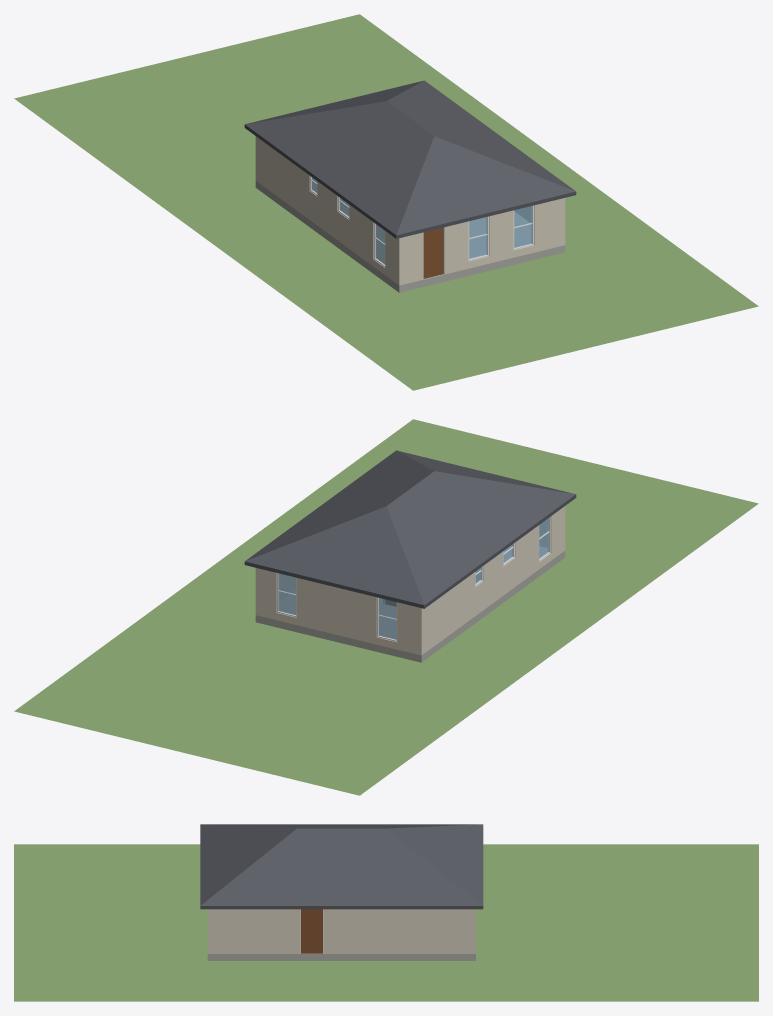
3 renders of one model, top to bottom at view 1: azimuth 30°, elevation 25°; view 2: azimuth 150°, elevation 25°; view 3: azimuth 270°, elevation 25°, orthographic. The views are drawn at different scales.
Visible parts, largest first — view 1: SITE, ROOF, ext-left, ext-front, SLAB-L1, D01, N02, N01; view 2: SITE, ROOF, ext-back, ext-left, SLAB-L1, N07, N06; view 3: SITE, ROOF, ext-right, SLAB-L1, D02.
Boxes of the visible parts, x1=… form: SITE: x1=14, y1=14, x2=758, y2=390; ROOF: x1=244, y1=80, x2=576, y2=238; ext-left: x1=257, y1=138, x2=397, y2=283; ext-front: x1=397, y1=198, x2=565, y2=285; SLAB-L1: x1=255, y1=181, x2=565, y2=292; D01: x1=423, y1=227, x2=443, y2=278; N02: x1=514, y1=206, x2=531, y2=247; N01: x1=469, y1=217, x2=486, y2=258; SITE: x1=14, y1=419, x2=758, y2=795; ROOF: x1=244, y1=450, x2=576, y2=608; ext-back: x1=255, y1=568, x2=423, y2=655; ext-left: x1=423, y1=507, x2=563, y2=653; SLAB-L1: x1=255, y1=546, x2=565, y2=662; N07: x1=278, y1=573, x2=296, y2=615; N06: x1=378, y1=598, x2=396, y2=639; SITE: x1=14, y1=844, x2=758, y2=1001; ROOF: x1=200, y1=824, x2=483, y2=909; ext-right: x1=211, y1=909, x2=472, y2=953; SLAB-L1: x1=207, y1=909, x2=475, y2=960; D02: x1=301, y1=909, x2=322, y2=953.
Size of the model in its own units: 15.24 by 4.27 by 30.48.
